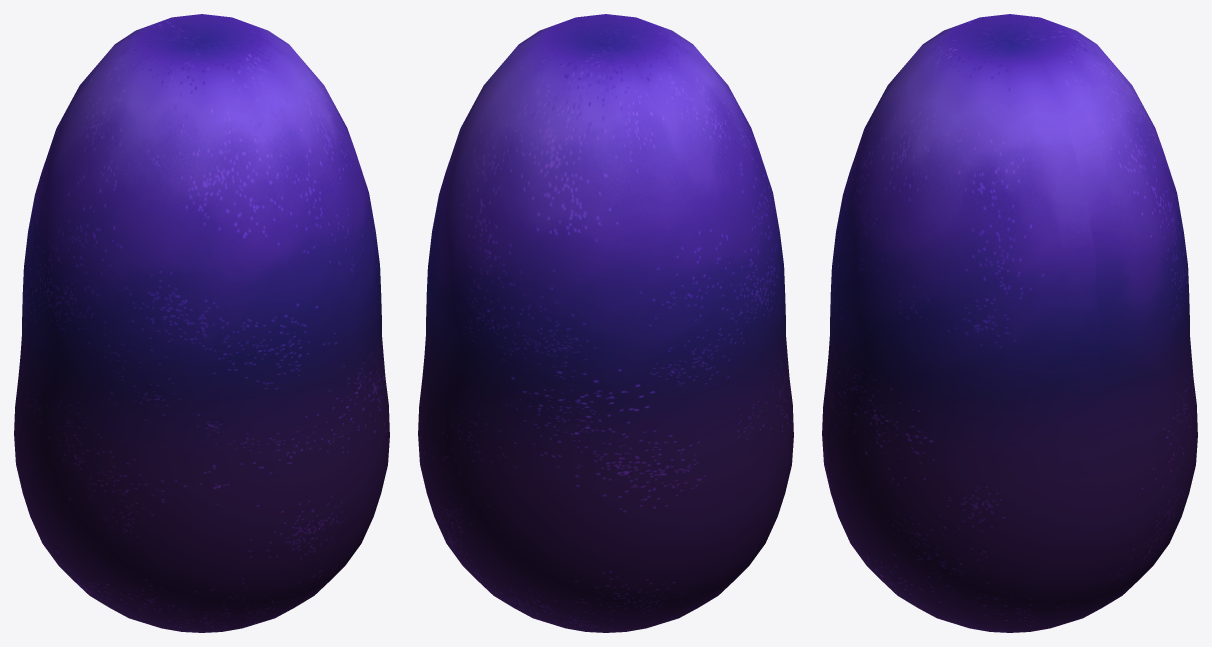
File: Fruit2.fbx
3 views of the same model, side by side, from view 1: azimuth 30°, elevation 25°; view 2: azimuth 150°, elevation 25°; view 3: azimuth 270°, elevation 25° (orthographic).
Visible parts, largest first — view 1: Fruit2; view 2: Fruit2; view 3: Fruit2.
Part boxes in pixels (bbox=[...]): Fruit2: bbox=[14, 14, 389, 632]; Fruit2: bbox=[418, 14, 793, 632]; Fruit2: bbox=[822, 14, 1197, 632].
Bounding box in the file's own units: 121 × 204 × 121.
Materials: 1 (1 with a texture image).
